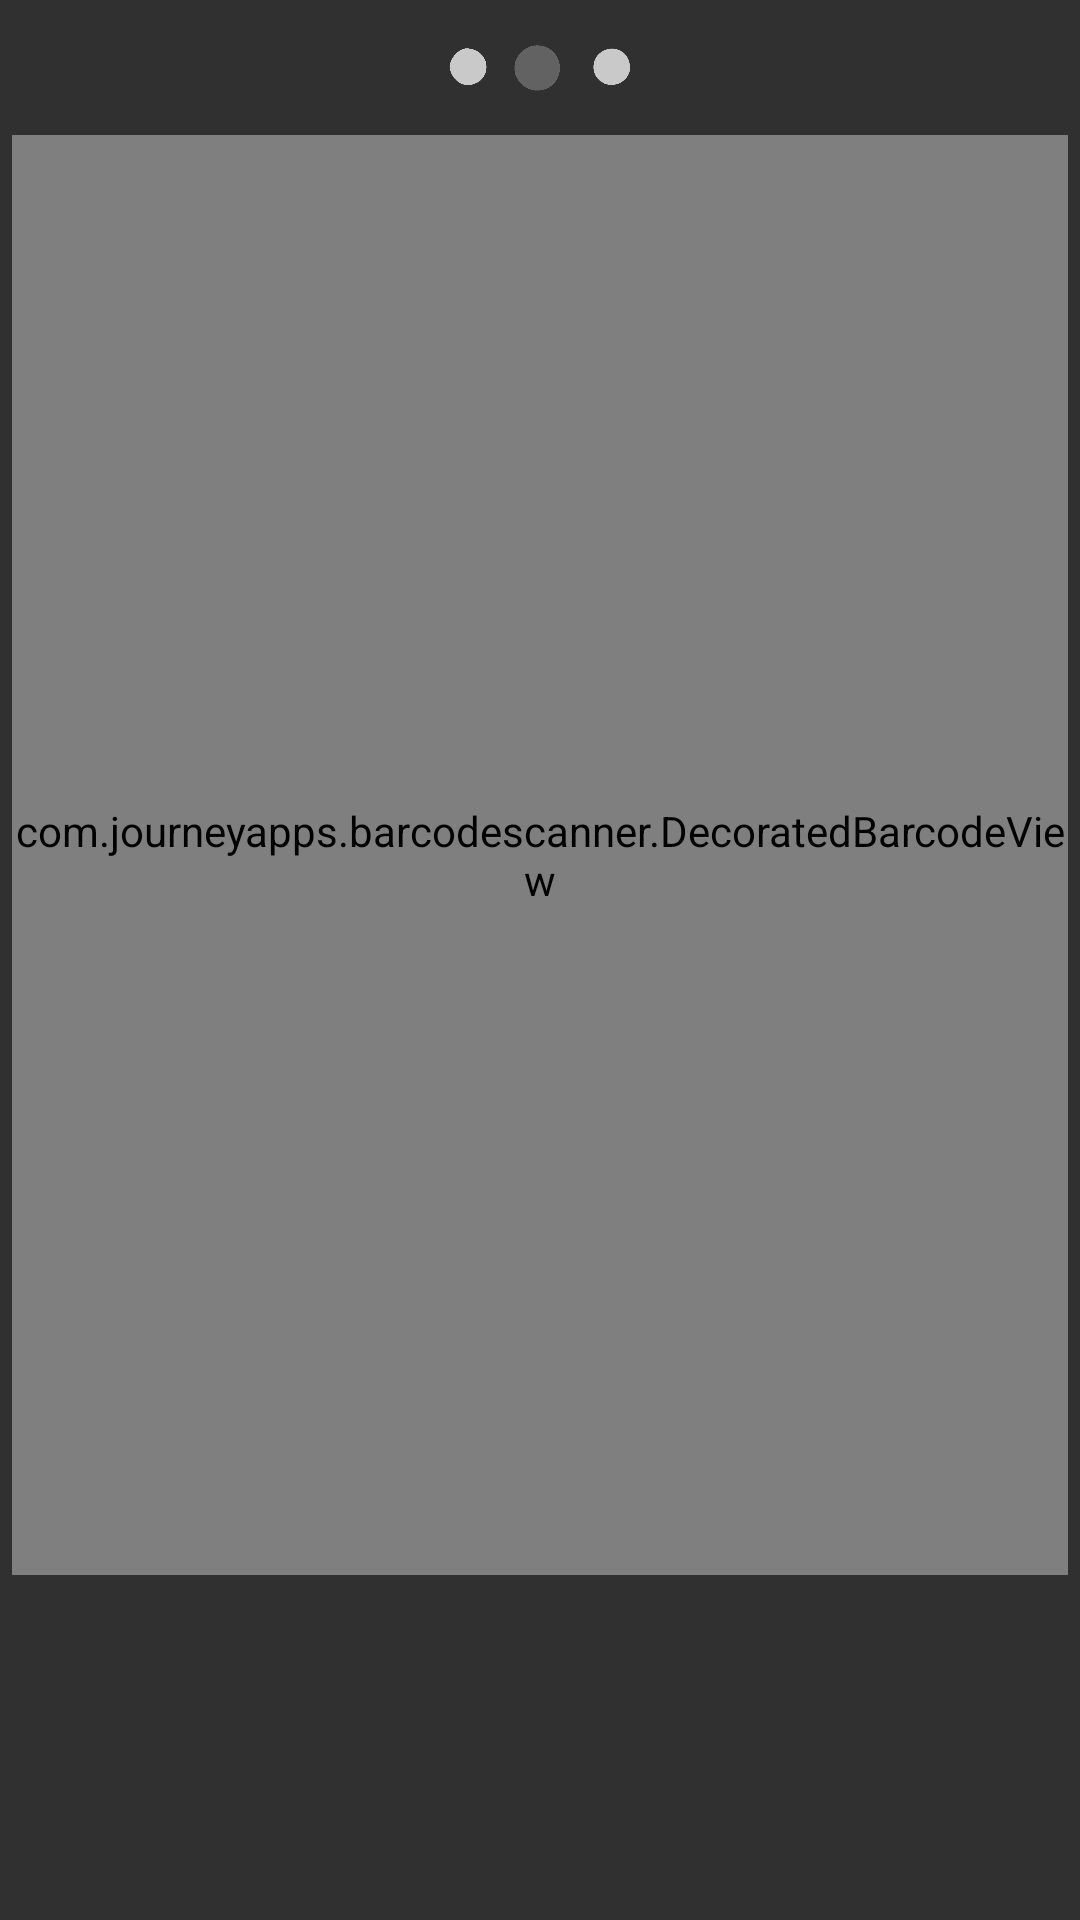

Locate icon controls on the screen. Image size 1080w x 1920h, boxes as (x1, y1, x2, y2).
dots mid: (450, 45, 630, 91)
